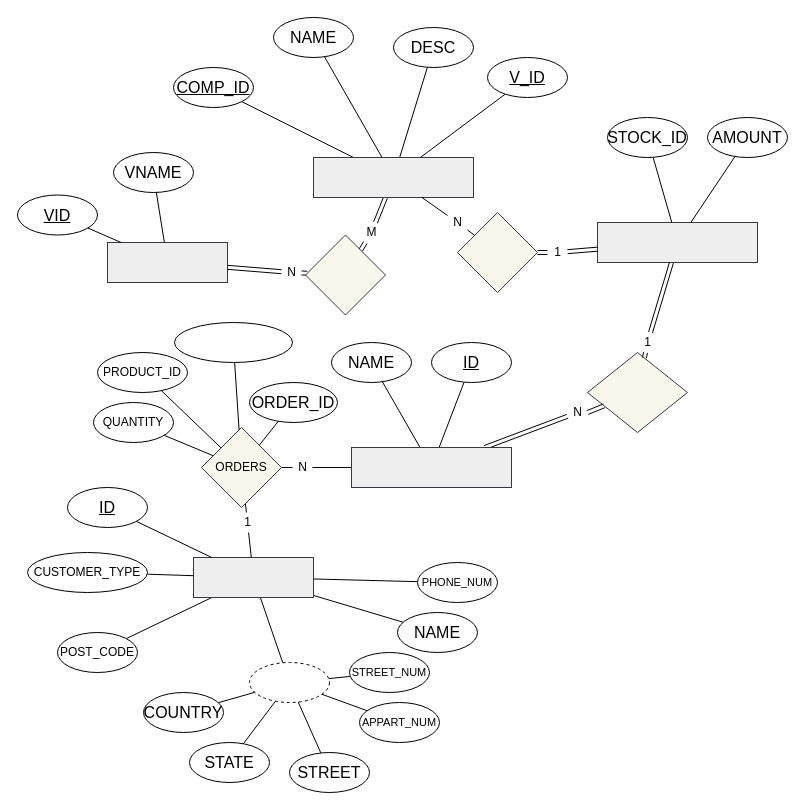
The diagram is 805 pixels wide and 810 high, and some of its shapes have lost their labels. Here are the shapes that lost their labels. From the top down, the box of each, then its label:
(312, 156, 474, 198): COMPONENT
(106, 242, 228, 282): VENDOR
(456, 212, 538, 292): STOCKS
(596, 222, 758, 262): ELECTRONICS_ MANUFACTURER
(304, 234, 386, 315): MAKES
(174, 322, 292, 362): CUSTOMER_ID
(586, 352, 688, 432): ASSEMBLES
(350, 446, 512, 488): PRODUCT
(192, 556, 314, 598): CUSTOMER
(248, 662, 330, 702): ADDRESS
